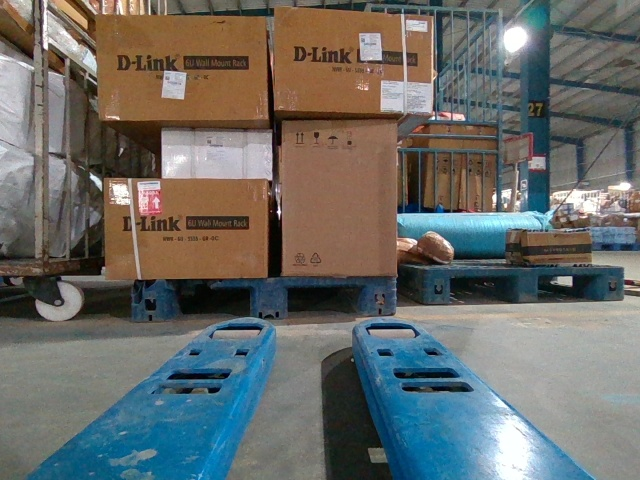block: (133, 280, 177, 325), (353, 273, 396, 317), (247, 277, 288, 321), (507, 264, 540, 300), (425, 265, 453, 302), (595, 267, 625, 298)
front: (132, 274, 397, 319), (425, 267, 624, 304)
hole pallet: (172, 287, 253, 318), (286, 283, 357, 318), (450, 275, 516, 304), (537, 276, 598, 301)
